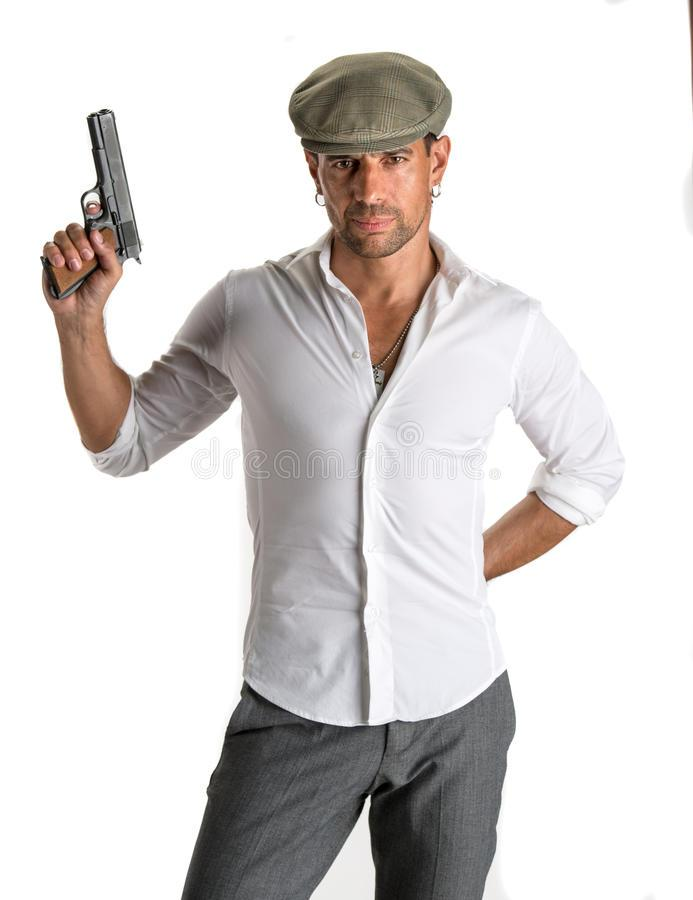criminal: (38, 48, 627, 900)
weapon: (39, 104, 148, 301)
